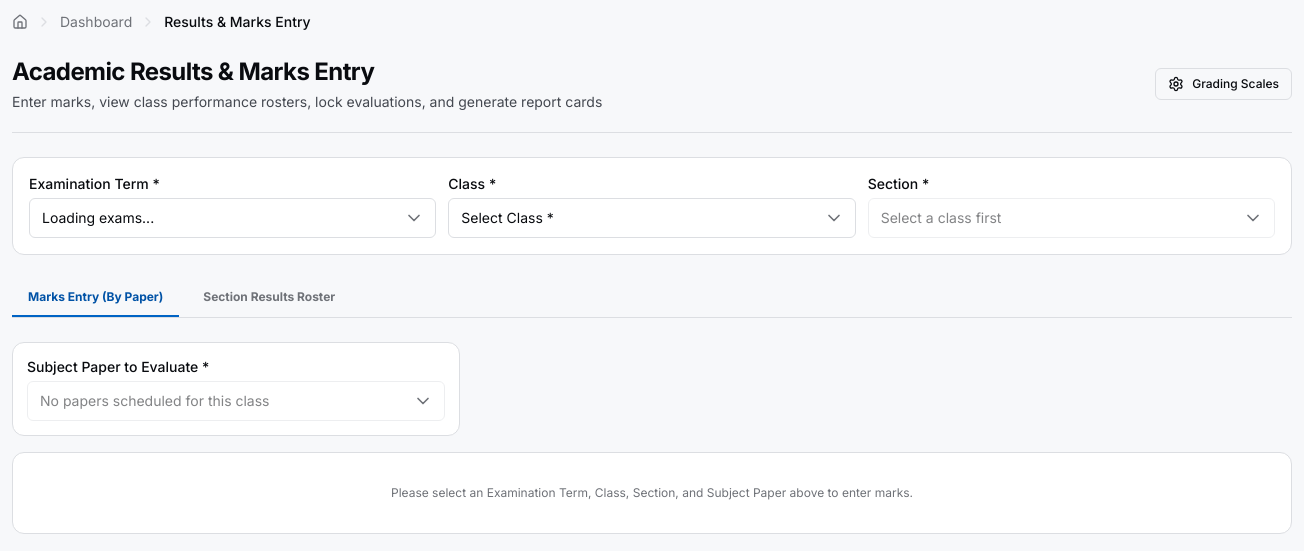
Test: ResultsPage Component › should render results page with tabs and allow switching between marks entry and roster
Expected: the heading "Academic Results & Marks Entry" is shown, [12, 57, 374, 86]
Expected: the button "Marks Entry (By Paper)" is shown, [12, 279, 179, 317]
// Switch to section results roster tab
Click the button "Section Results Roster". click: point(269, 298)
box: [187, 279, 351, 317]
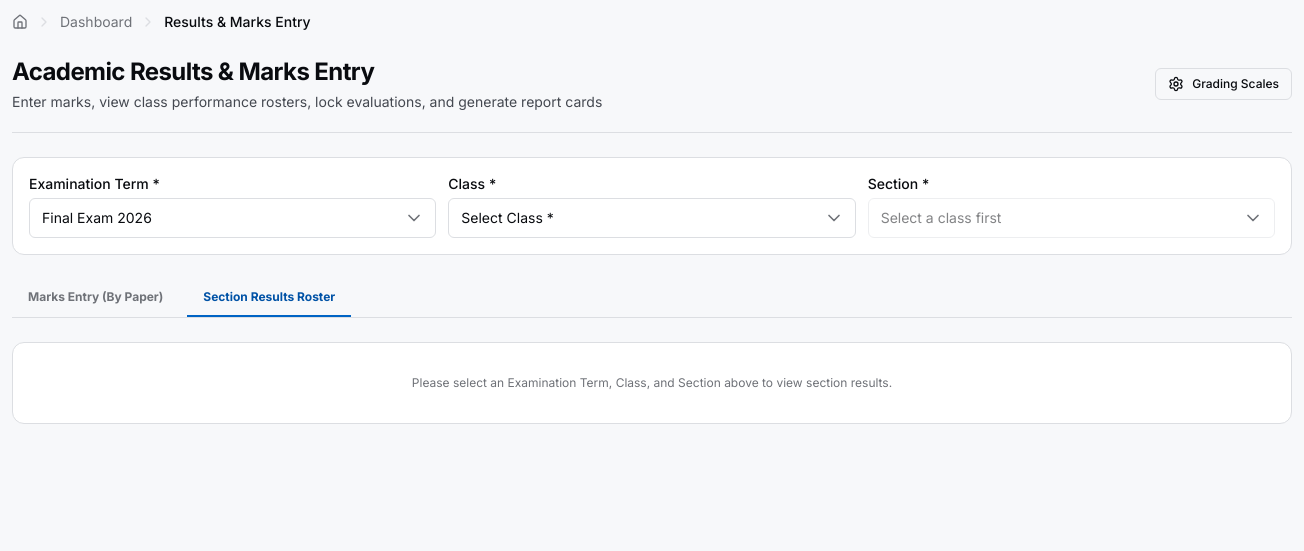
Expected: the text "Please select an Examination Term, Class, and Section" is shown, [412, 375, 892, 390]
